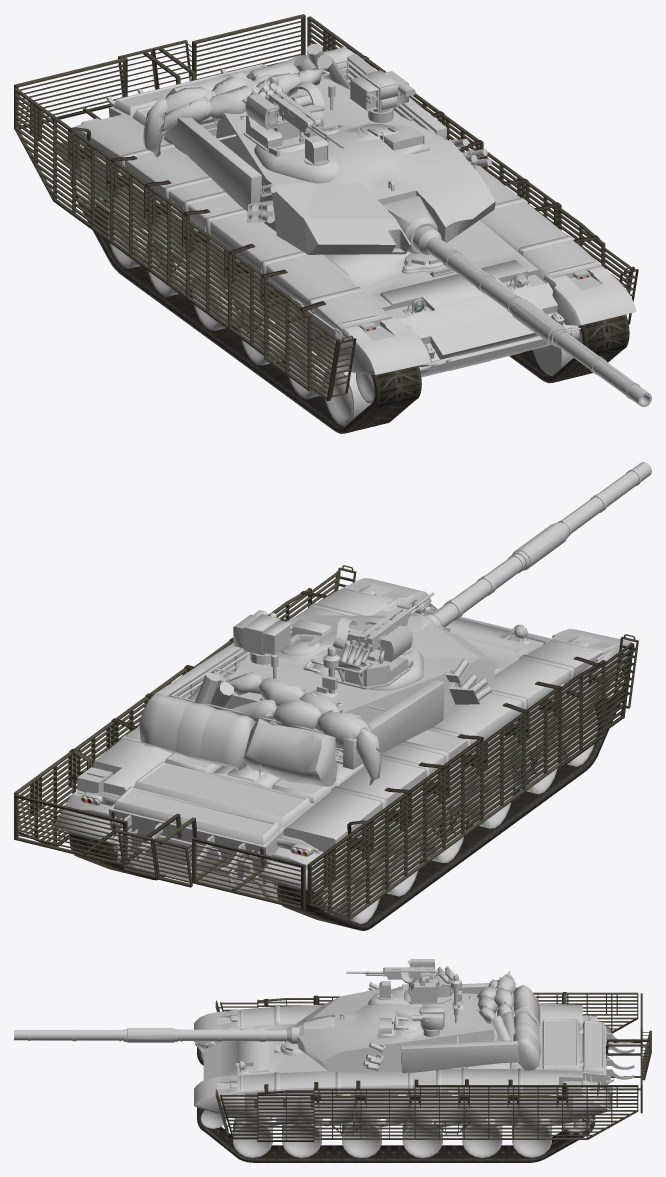
File: Type99.FBX
3 views of the same model, one above another, from view 1: azimuth 30°, elevation 25°; view 2: azimuth 150°, elevation 25°; view 3: azimuth 270°, elevation 25° (orthographic). The views are drawn at different scales.
Parts seen in each view (by area): view 1: ype99_M001, ype99_cage_M003, ype99_M027, Tracks, ype99_cage_M002, ype99_cage_M001, ype99_M007, ype99_M004, ype99_M002, ype99_M039, ype99_LOGO_M004, M_KitAtlas002 (+20 smaller); view 2: ype99_M001, ype99_cage_M003, ype99_M027, ype99_cage_M002, Tracks, ype99_cage_M001, M_KitAtlas004, M_KitAtlas003, ype99_M007, M_KitAtlas001, ype99_M039, NORENCO_M002 (+16 smaller); view 3: ype99_M001, ype99_cage_M001, ype99_M027, Tracks, ype99_M007, ype99_M040, ype99_cage_M003, ype99_M002, M_KitAtlas004, NORENCO_M002, ype99_cage_M002, ype99_M030 (+24 smaller).
Part boxes in pixels (bbox=[...]): ype99_M001: bbox=[53, 63, 601, 377]; ype99_cage_M003: bbox=[14, 88, 356, 400]; ype99_M027: bbox=[198, 60, 495, 254]; Tracks: bbox=[70, 170, 629, 433]; ype99_cage_M002: bbox=[14, 14, 305, 129]; ype99_cage_M001: bbox=[307, 16, 638, 324]; ype99_M007: bbox=[413, 226, 651, 407]; ype99_M004: bbox=[335, 313, 431, 374]; ype99_M002: bbox=[543, 261, 636, 325]; ype99_M039: bbox=[164, 117, 261, 211]; ype99_LOGO_M004: bbox=[304, 182, 459, 242]; M_KitAtlas002: bbox=[158, 67, 329, 133]; ype99_M001: bbox=[53, 587, 604, 900]; ype99_cage_M003: bbox=[307, 634, 638, 919]; ype99_M027: bbox=[169, 615, 495, 763]; ype99_cage_M002: bbox=[14, 794, 305, 910]; Tracks: bbox=[69, 666, 626, 930]; ype99_cage_M001: bbox=[14, 565, 356, 846]; M_KitAtlas004: bbox=[139, 693, 254, 770]; M_KitAtlas003: bbox=[243, 718, 337, 786]; ype99_M007: bbox=[422, 462, 651, 626]; M_KitAtlas001: bbox=[227, 698, 381, 785]; ype99_M039: bbox=[343, 679, 444, 769]; NORENCO_M002: bbox=[328, 628, 409, 689]; ype99_M001: bbox=[194, 1003, 634, 1120]; ype99_cage_M001: bbox=[215, 1079, 638, 1142]; ype99_M027: bbox=[293, 974, 513, 1072]; Tracks: bbox=[197, 1043, 595, 1162]; ype99_M007: bbox=[14, 1026, 299, 1043]; ype99_M040: bbox=[400, 1040, 518, 1072]; ype99_cage_M003: bbox=[215, 992, 638, 1033]; ype99_M002: bbox=[194, 1075, 244, 1121]; M_KitAtlas004: bbox=[513, 1011, 541, 1070]; NORENCO_M002: bbox=[408, 966, 456, 1004]; ype99_cage_M002: bbox=[604, 993, 651, 1113]; ype99_M030: bbox=[244, 1096, 299, 1125].
Bounding box in the file's own units: 154 × 110 × 441.
